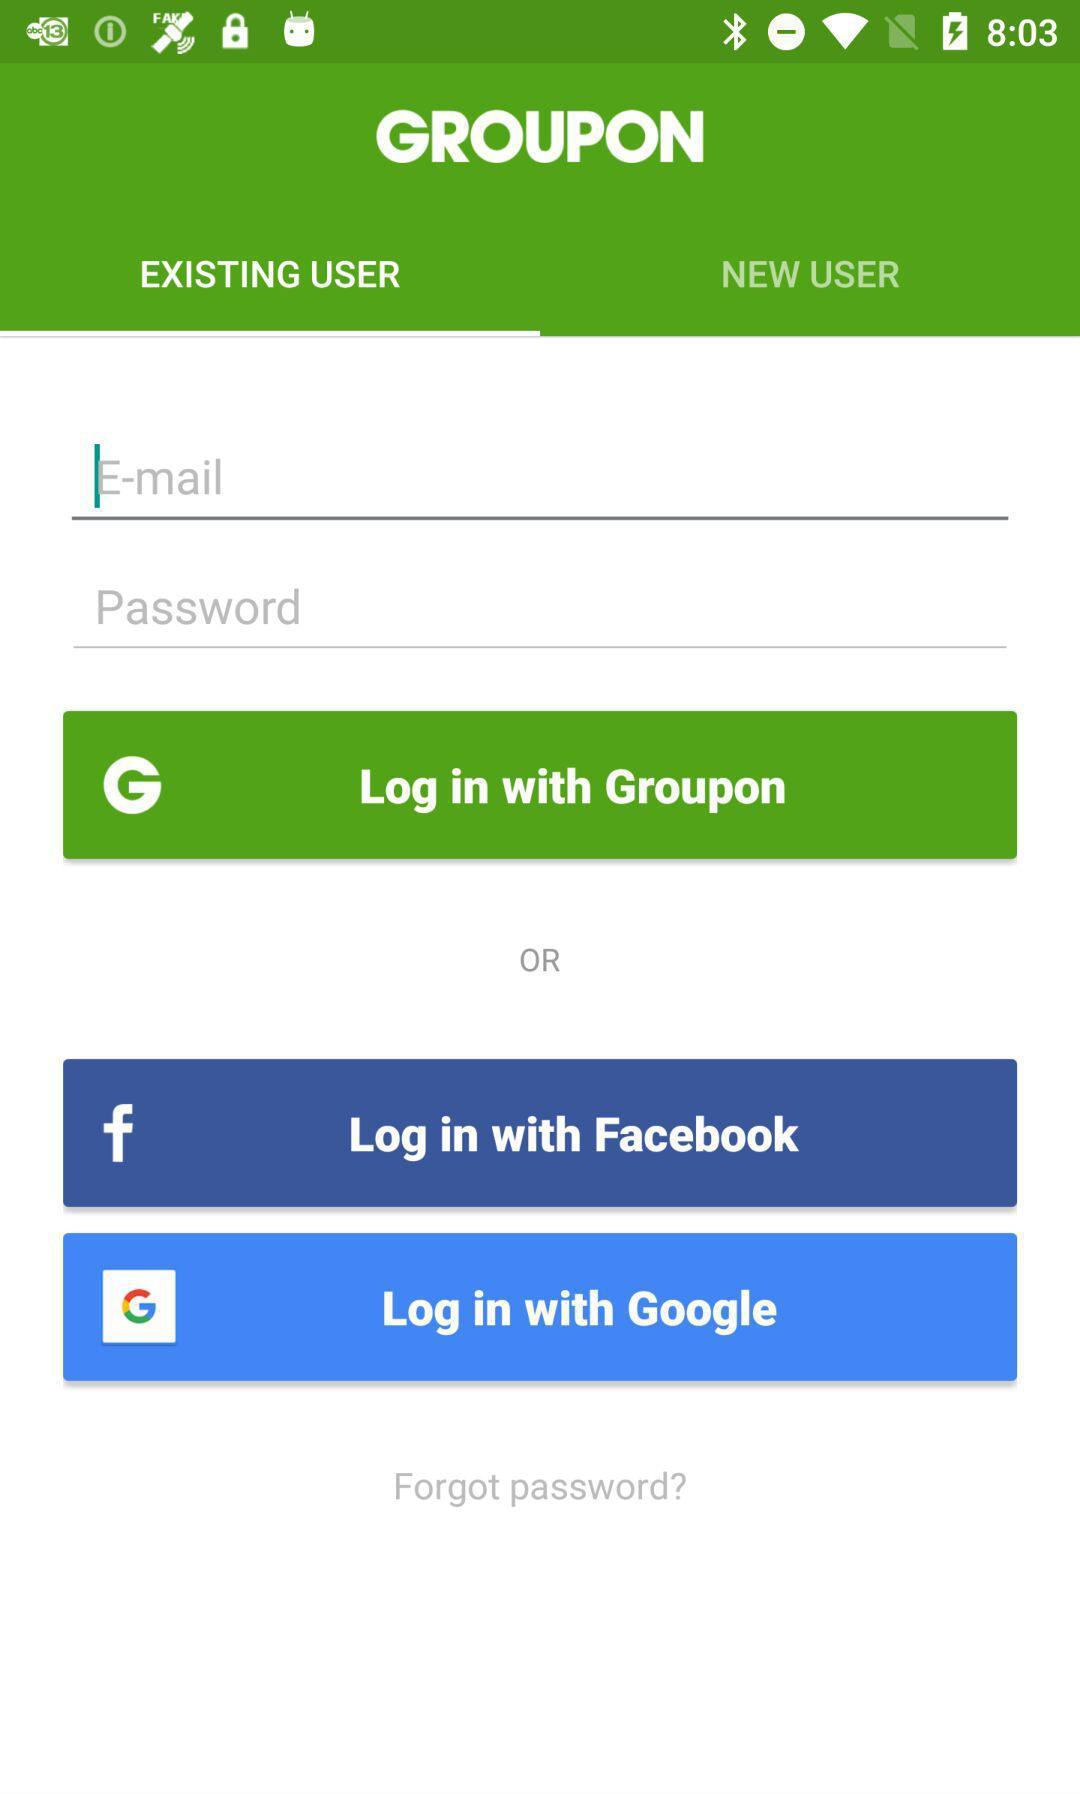EditText: (72, 443, 1010, 522), (74, 588, 1008, 650)
Text: (377, 111, 705, 165), (396, 1471, 687, 1508), (97, 588, 300, 627), (142, 260, 401, 290), (723, 261, 899, 290), (97, 459, 222, 497), (521, 948, 561, 973)
TextButton: (63, 1058, 1017, 1208), (63, 1233, 1017, 1381), (64, 711, 1019, 860)
UpperTaskBar: (1, 1, 1080, 64)
